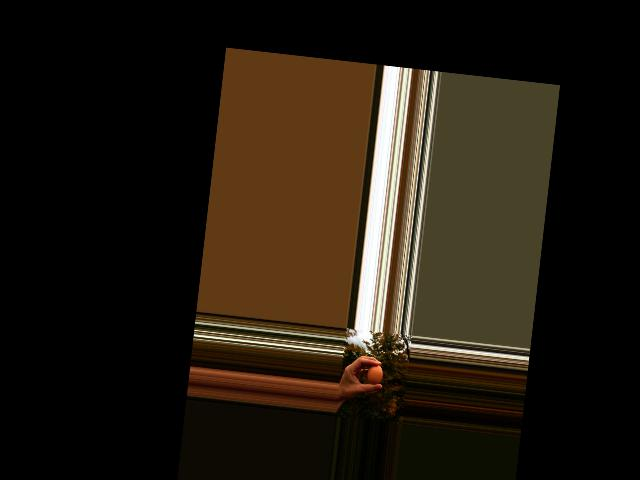egg: (366, 363, 383, 385)
